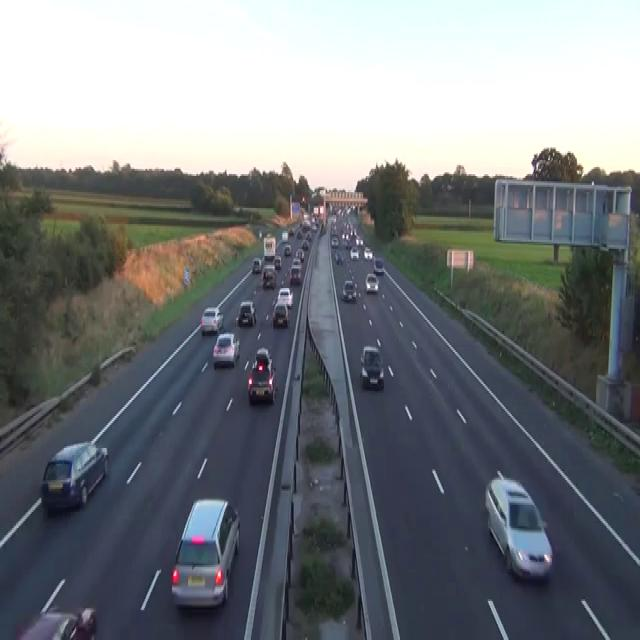Car: (170, 496, 240, 610), (484, 469, 553, 582), (40, 441, 108, 512), (15, 606, 96, 638), (247, 361, 277, 403), (359, 345, 384, 389), (212, 331, 240, 368), (68, 606, 97, 638), (200, 306, 223, 334), (235, 301, 256, 327), (272, 301, 289, 327), (255, 346, 272, 369), (277, 286, 293, 308), (261, 265, 276, 288), (341, 279, 356, 301), (365, 272, 379, 293), (289, 263, 301, 285), (373, 258, 384, 274), (252, 256, 261, 272), (258, 226, 270, 238), (334, 251, 343, 265), (350, 246, 359, 260), (363, 246, 372, 260), (295, 247, 304, 261), (330, 235, 339, 247), (274, 254, 281, 268), (301, 221, 310, 231), (284, 244, 291, 256), (292, 256, 301, 265), (355, 235, 363, 245), (281, 229, 288, 240), (305, 231, 312, 242), (345, 238, 351, 249), (301, 240, 308, 249), (296, 230, 302, 238), (303, 212, 309, 220), (288, 228, 294, 235), (258, 228, 262, 238), (301, 195, 305, 202)
Truck: (263, 234, 275, 260)
